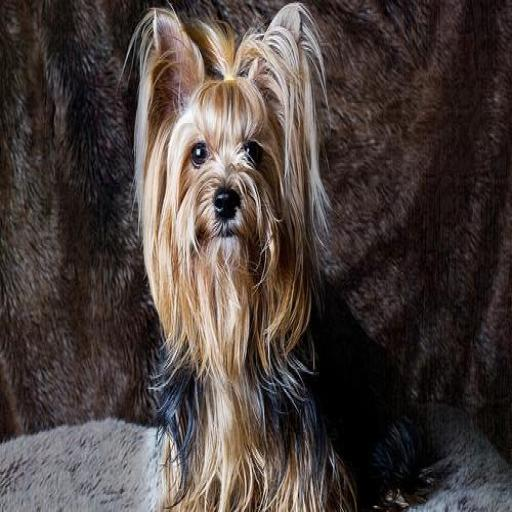dog_face: (140, 17, 301, 312)
